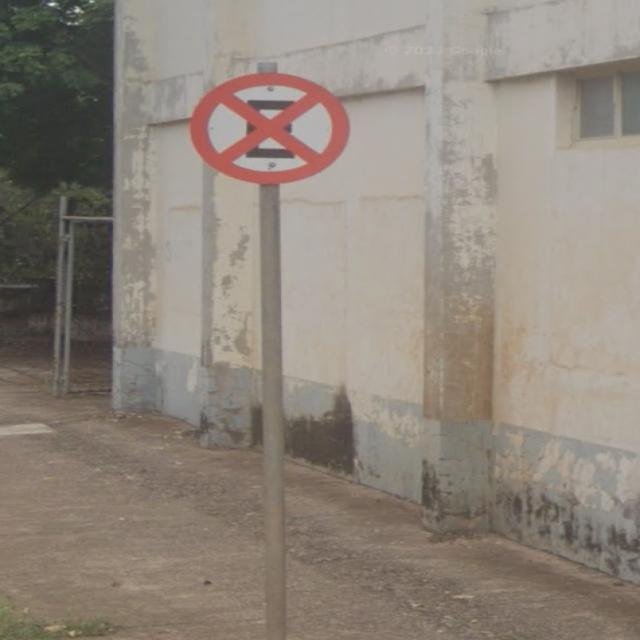no parking: (173, 60, 361, 198)
